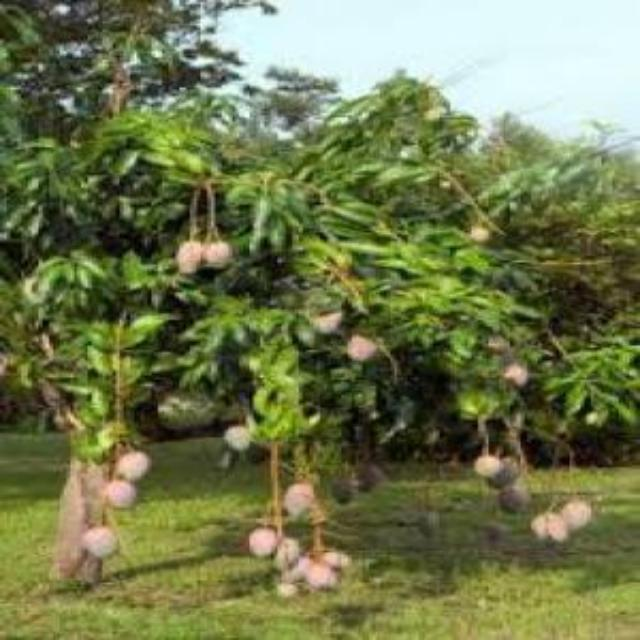tree: (10, 9, 636, 614)
